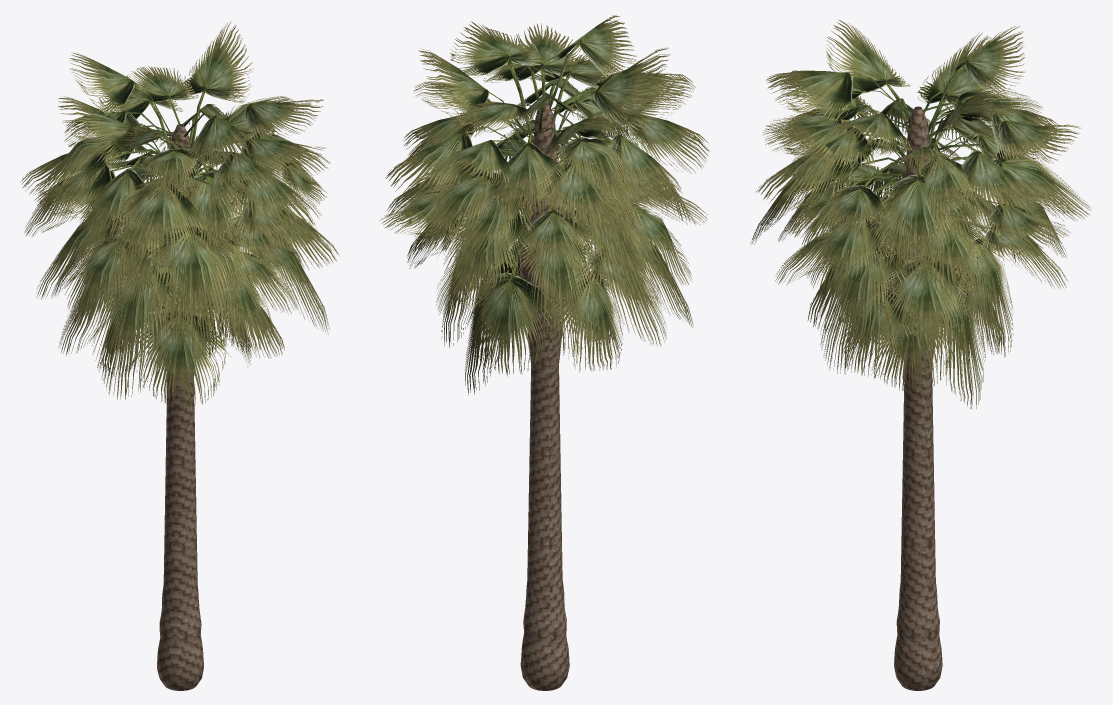
The model's file is palm-series.glb.
3 views of the same model, side by side, from view 1: azimuth 30°, elevation 25°; view 2: azimuth 150°, elevation 25°; view 3: azimuth 270°, elevation 25° (orthographic). The views are drawn at different scales.
Parts seen in each view (by area): view 1: palm-series-1, palm-series-0; view 2: palm-series-1, palm-series-0; view 3: palm-series-1, palm-series-0.
Boxes of the visible parts, bbox=[...] form: palm-series-1: bbox=[20, 21, 338, 407]; palm-series-0: bbox=[157, 124, 203, 690]; palm-series-1: bbox=[380, 15, 709, 394]; palm-series-0: bbox=[520, 102, 569, 690]; palm-series-1: bbox=[750, 19, 1091, 408]; palm-series-0: bbox=[893, 106, 942, 690].
Bounding box in the file's own units: 0.4648 × 1 × 0.5008.
Materials: 2 (2 with a texture image).
